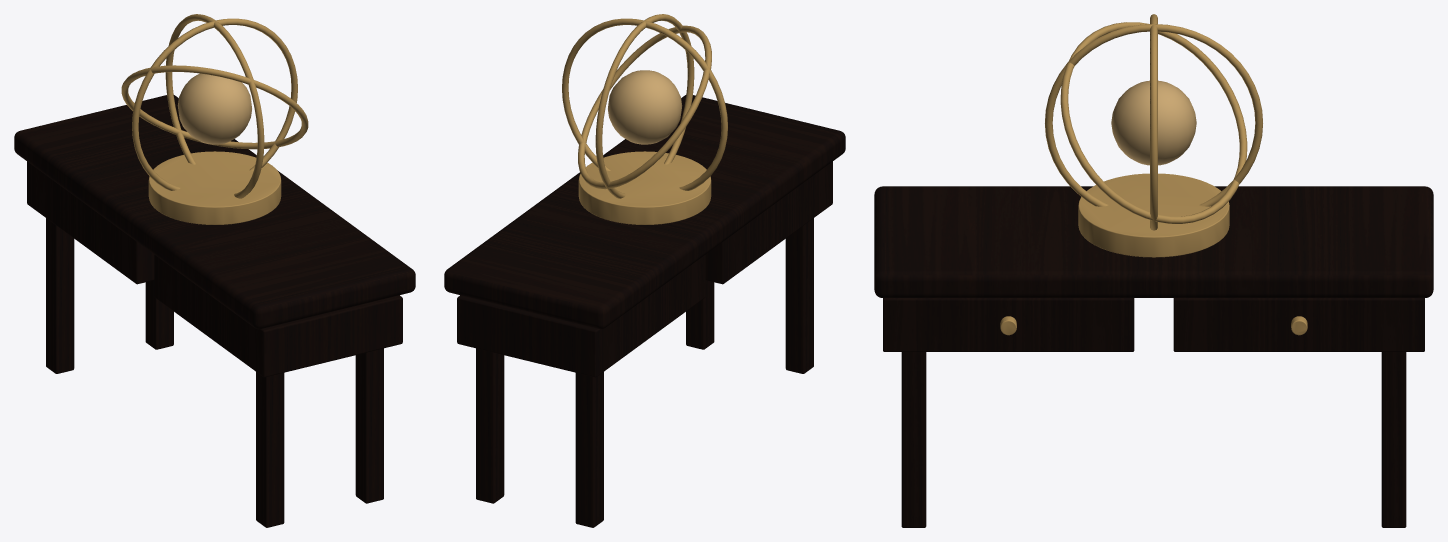
File: east.glb
The picture shows the model from 3 angles, left to right: view 1: azimuth 30°, elevation 25°; view 2: azimuth 150°, elevation 25°; view 3: azimuth 270°, elevation 25°; orthographic projection. The views are drawn at different scales.
Visible parts, largest first — view 1: victorian-study east; view 2: victorian-study east; view 3: victorian-study east.
Boxes of the visible parts, bbox=[...] form: victorian-study east: bbox=[14, 14, 415, 527]; victorian-study east: bbox=[444, 14, 845, 527]; victorian-study east: bbox=[874, 14, 1433, 527].
Size of the model in its own units: 0.664 by 1.58 by 1.7.
Materials: 3 (1 with a texture image).
